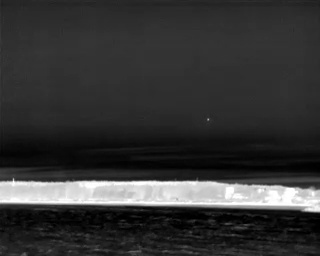HELICOPTER: (204, 115, 213, 125)
